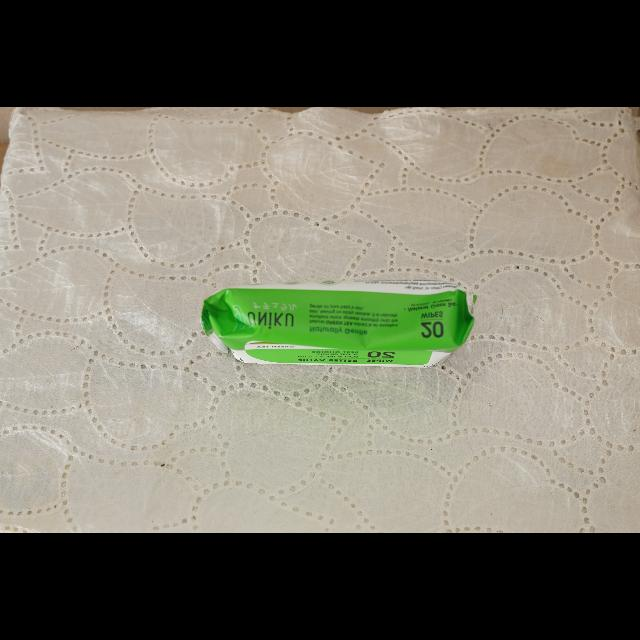khan_giay: (201, 281, 474, 367)
